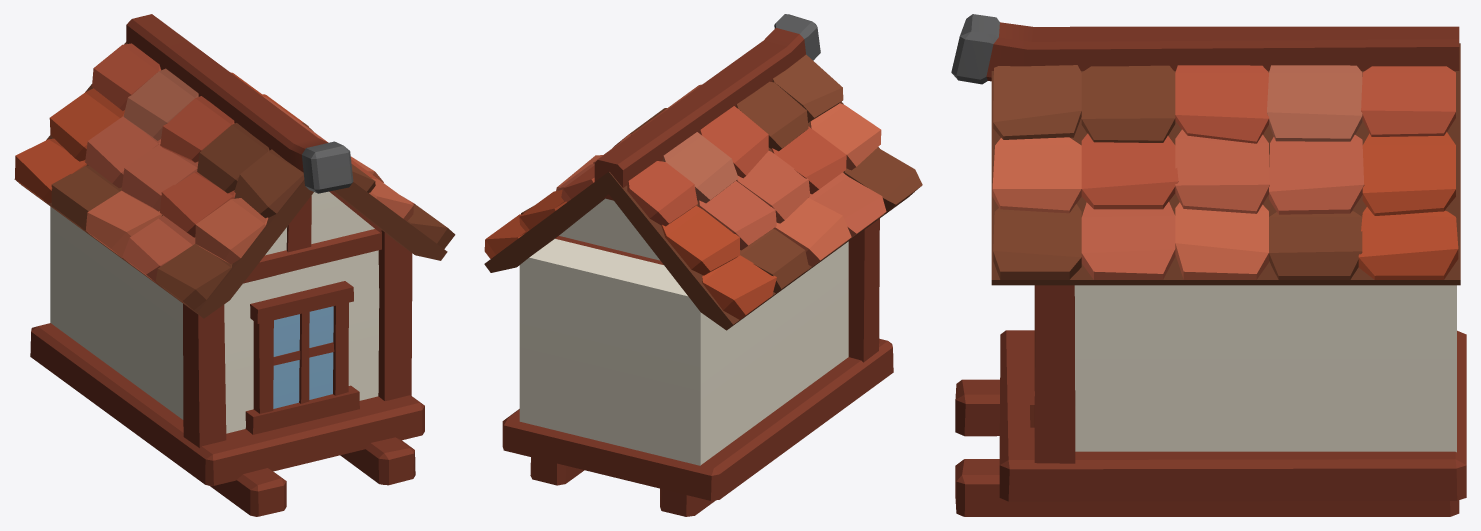
File: House_2Floor_Side_E.fbx
The picture shows the model from 3 angles, left to right: view 1: azimuth 30°, elevation 25°; view 2: azimuth 150°, elevation 25°; view 3: azimuth 270°, elevation 25°; orthographic projection. The views are drawn at different scales.
Visible parts, largest first — view 1: House_2Floor_Side_E; view 2: House_2Floor_Side_E; view 3: House_2Floor_Side_E.
Boxes of the visible parts, bbox=[...] form: House_2Floor_Side_E: bbox=[14, 14, 455, 516]; House_2Floor_Side_E: bbox=[484, 14, 922, 516]; House_2Floor_Side_E: bbox=[951, 14, 1466, 516].
Bounding box in the file's own units: 156 × 189 × 198.
